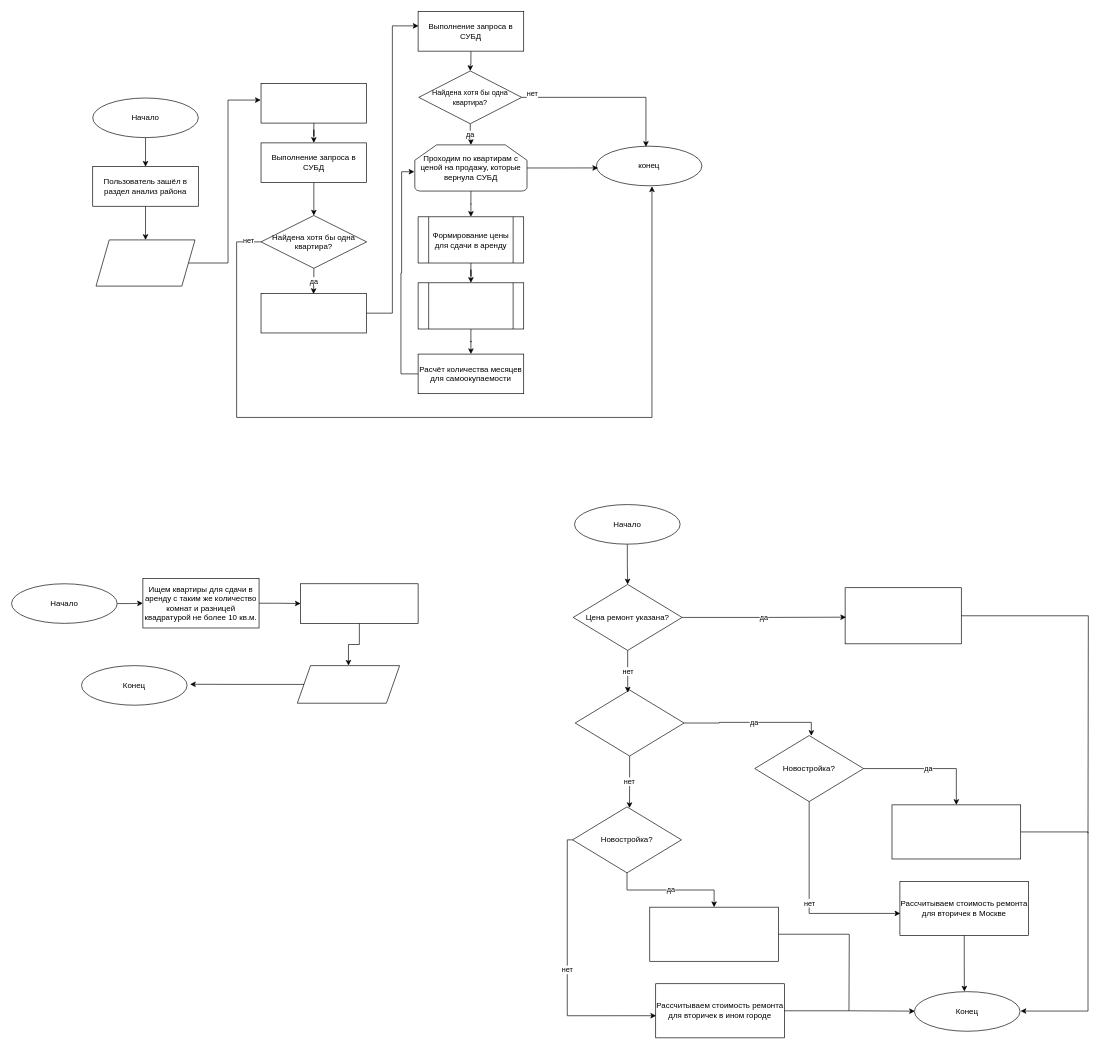
The diagram is 1105 pixels wide and 1049 high, and some of its shapes have lost their labels. Here are the shapes that lost their labels. From the top down, the centre of each, then its label:
(x=313, y=103): Формируется запрос поиска квартир на продажу
(x=145, y=262): Пользователь вводит город и район
(x=313, y=313): формируется запрос поиска квартир на аренду
(x=470, y=305): Расчёт полной стоимости квартиры
(x=359, y=603): Отбираем топ 3 ближайших
(x=902, y=615): Рассчитываем стоимость ремонта, используя параметр пользователя
(x=348, y=684): Возвращаем среднюю цену от топа квартир
(x=629, y=722): Квартира из Москвы?
(x=956, y=831): Рассчитываем стоимость ремонта для новостроек в Москве
(x=713, y=934): Рассчитываем стоимость ремонта для новостроек в ином городе
